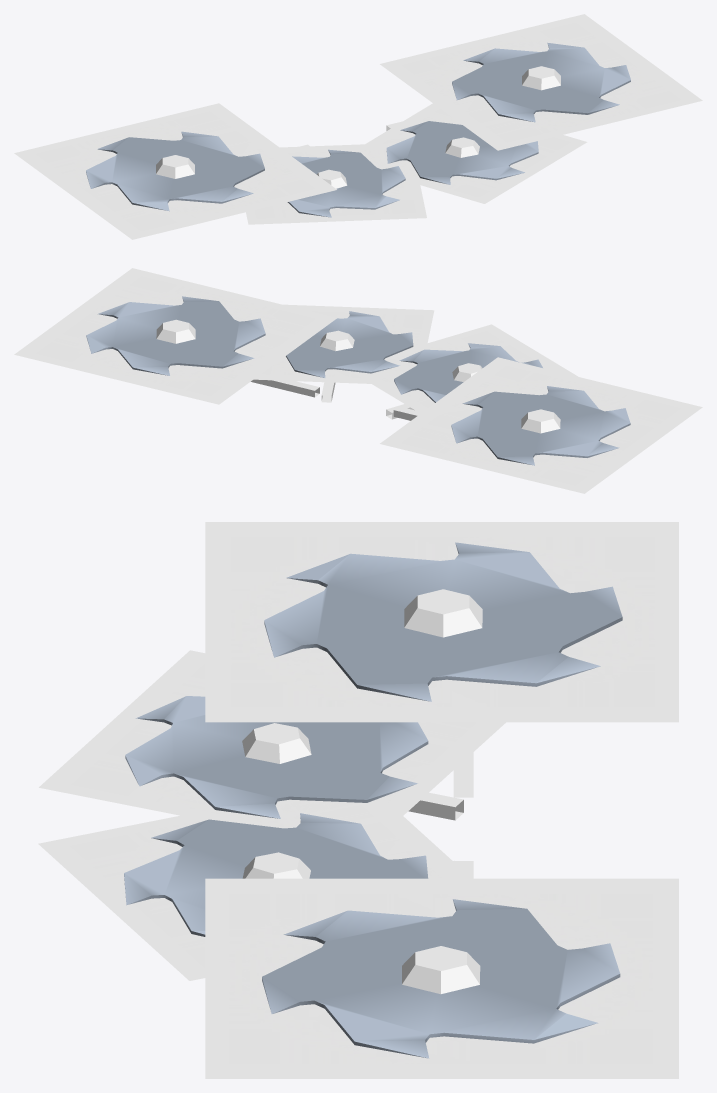
The model's file is saw 8.FBX.
The picture shows the model from 3 angles, top to bottom: view 1: azimuth 30°, elevation 25°; view 2: azimuth 150°, elevation 25°; view 3: azimuth 270°, elevation 25°; orthographic projection. The views are drawn at different scales.
Parts seen in each view (by area): view 1: Saw_Wind_FX_2, Saw_Wind_FX_3, Saw_6_5, Saw_6_7, Saw_6_3, Saw_Wind_FX_1, Saw_Wind_FX, Saw_6_1, Saw_6_cell_3, Saw_6_cell_2, Saw_6_cell_1, Saw_6_cell; view 2: Saw_Wind_FX_3, Saw_Wind_FX_2, Saw_6_7, Saw_6_5, Saw_6_3, Saw_Wind_FX, Saw_Wind_FX_1, Saw_6_1, Saw_6_cell_3, Saw_6_cell_2, Mounting_Saw_3, Saw_6_cell_1 (+1 smaller); view 3: Saw_Wind_FX_2, Saw_Wind_FX_3, Saw_6_5, Saw_6_7, Saw_6_1, Saw_Wind_FX, Saw_Wind_FX_1, Saw_6_3, Saw_6_cell_2, Saw_6_cell_3, Saw_6_cell, Saw_6_cell_1 (+1 smaller).
Part boxes in pixels (left/top/right/bottom): Saw_Wind_FX_2: left=14, top=103, right=336, bottom=239; Saw_Wind_FX_3: left=380, top=14, right=702, bottom=150; Saw_6_5: left=86, top=131, right=264, bottom=211; Saw_6_7: left=452, top=42, right=630, bottom=122; Saw_6_3: left=386, top=121, right=538, bottom=184; Saw_Wind_FX_1: left=353, top=103, right=587, bottom=203; Saw_Wind_FX: left=246, top=143, right=426, bottom=224; Saw_6_1: left=287, top=149, right=405, bottom=217; Saw_6_cell_3: left=522, top=66, right=560, bottom=90; Saw_6_cell_2: left=156, top=155, right=194, bottom=178; Saw_6_cell_1: left=445, top=137, right=479, bottom=157; Saw_6_cell: left=317, top=169, right=347, bottom=188; Saw_Wind_FX_3: left=14, top=268, right=336, bottom=404; Saw_Wind_FX_2: left=380, top=357, right=702, bottom=493; Saw_6_7: left=86, top=296, right=265, bottom=375; Saw_6_5: left=451, top=386, right=630, bottom=465; Saw_6_3: left=286, top=311, right=413, bottom=377; Saw_Wind_FX: left=351, top=324, right=577, bottom=413; Saw_Wind_FX_1: left=254, top=304, right=434, bottom=383; Saw_6_1: left=394, top=343, right=542, bottom=402; Saw_6_cell_3: left=156, top=319, right=195, bottom=343; Saw_6_cell_2: left=521, top=409, right=560, bottom=433; Mounting_Saw_3: left=251, top=379, right=319, bottom=397; Saw_6_cell_1: left=320, top=330, right=354, bottom=351; Saw_Wind_FX_2: left=205, top=522, right=678, bottom=722; Saw_Wind_FX_3: left=205, top=878, right=678, bottom=1078; Saw_6_5: left=264, top=542, right=622, bottom=701; Saw_6_7: left=262, top=899, right=620, bottom=1058; Saw_6_1: left=125, top=696, right=428, bottom=818; Saw_Wind_FX: left=39, top=650, right=505, bottom=831; Saw_Wind_FX_1: left=38, top=797, right=471, bottom=980; Saw_6_3: left=124, top=813, right=428, bottom=936; Saw_6_cell_2: left=404, top=589, right=482, bottom=637; Saw_6_cell_3: left=402, top=946, right=480, bottom=994; Saw_6_cell: left=242, top=723, right=311, bottom=763; Saw_6_cell_1: left=242, top=852, right=310, bottom=878.
Size of the model in its own units: 804 by 47.56 by 391.
